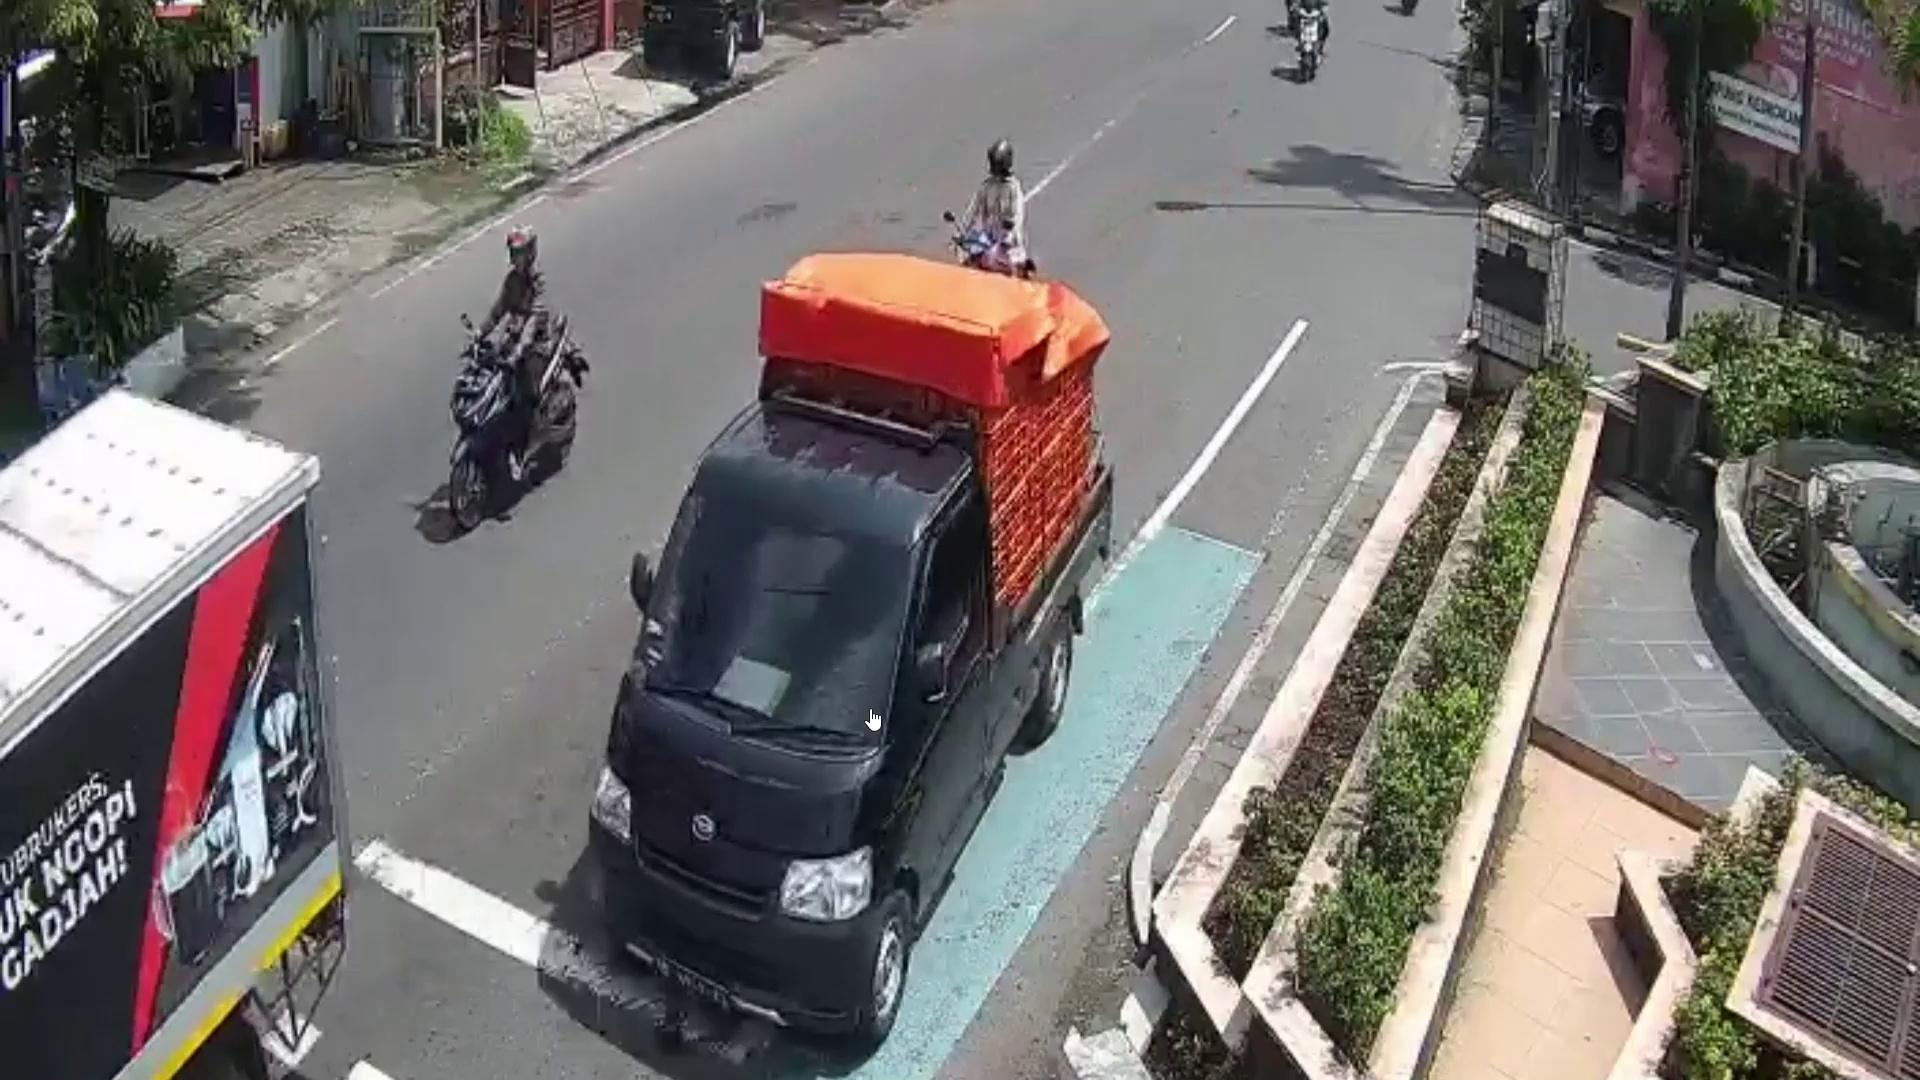car: (585, 375, 1121, 1048)
motorbike: (440, 310, 591, 541)
truck: (0, 385, 351, 1080)
